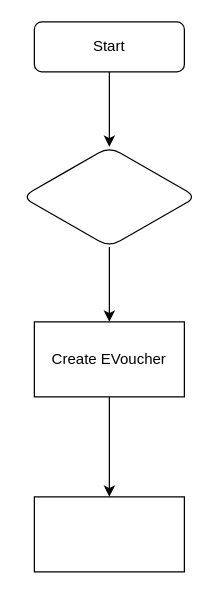
The diagram is 219 pixels wide and 594 high, and some of its shapes have lost their labels. Here are the shapes that lost their labels. From the top down, the centre of each, then its label:
the point at 109,196: Authentication And Authorization
the point at 108,534: Generate Promotion Codes
